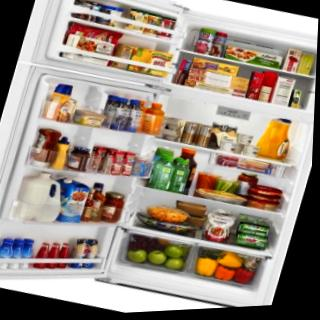Egg: (155, 124, 181, 144), (162, 111, 186, 132)
Juice: (255, 111, 300, 164), (139, 97, 170, 137), (117, 96, 145, 134)
Milk: (45, 172, 94, 227)
beverage: (235, 230, 270, 251), (235, 219, 270, 240), (193, 120, 216, 149), (178, 120, 199, 146)
food-box: (61, 21, 122, 57), (202, 212, 234, 245)
fruit: (123, 244, 150, 264), (129, 235, 160, 252), (145, 248, 168, 267), (162, 243, 187, 260), (162, 253, 184, 272)
